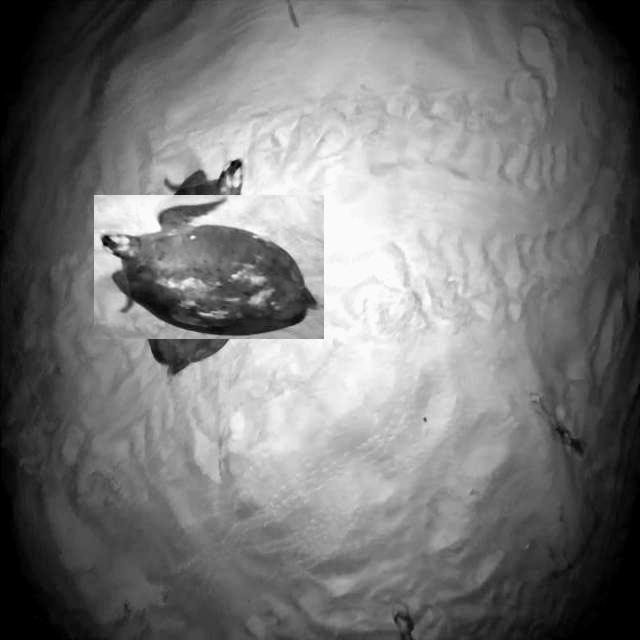Sea turtle: (116, 173, 303, 361)
